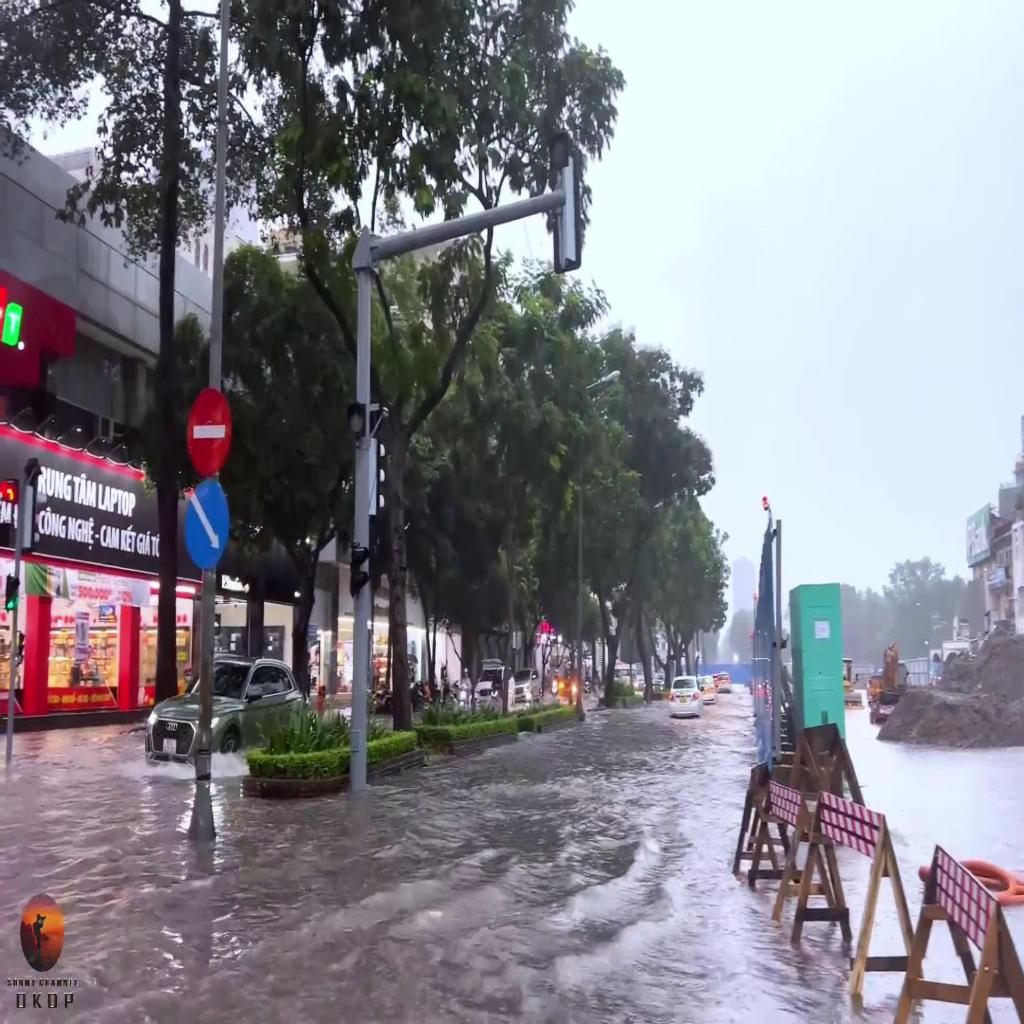cam_xe_di_nguoc_chieu: (188, 386, 231, 476)
huong_phai_di_vuot_chuong_ngai_vat_phai: (183, 481, 228, 569)
